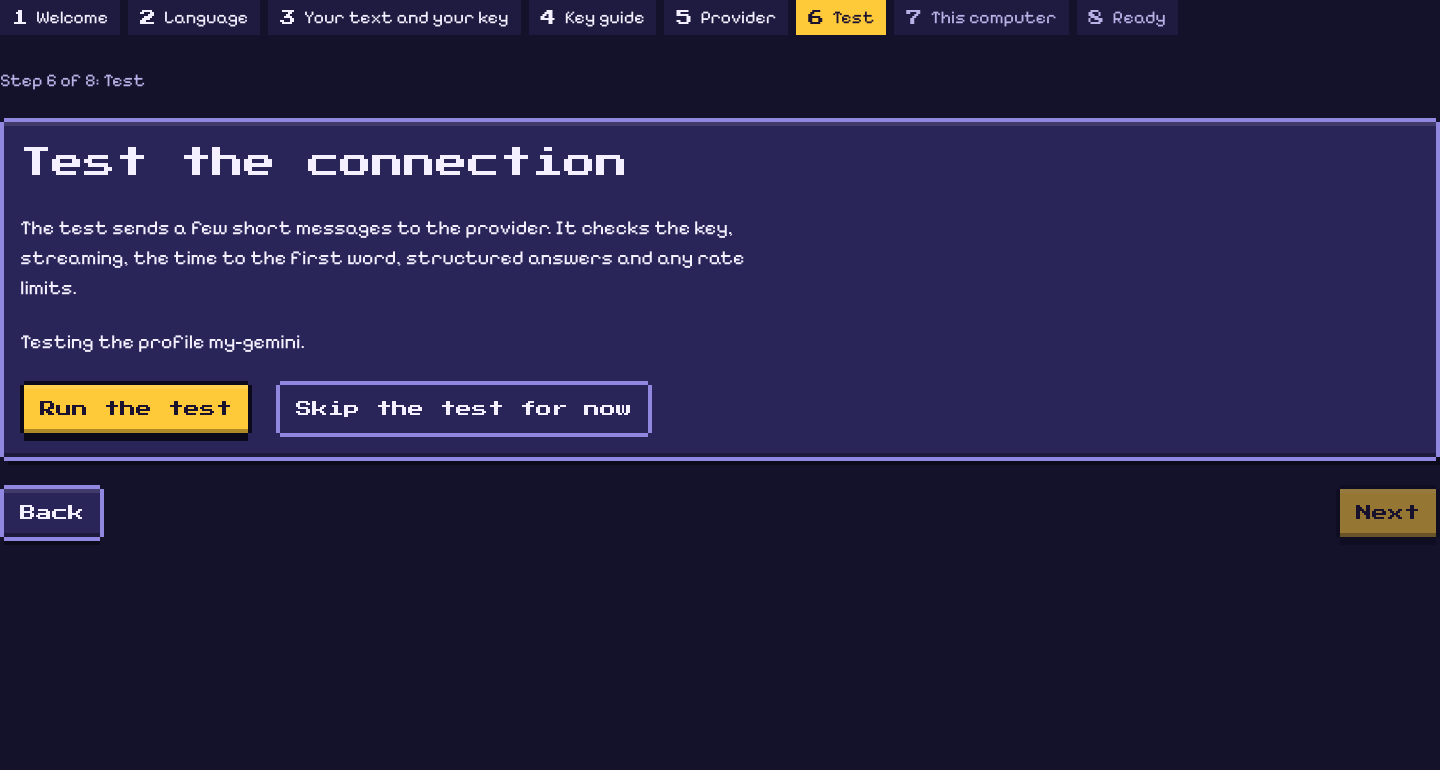
Test: OnboardingWizard › an unreachable provider can be tried again, and the test can be skipped
The image size is (1440, 770).
Click the button "Run the test": point(136, 409) [24,385,248,433]
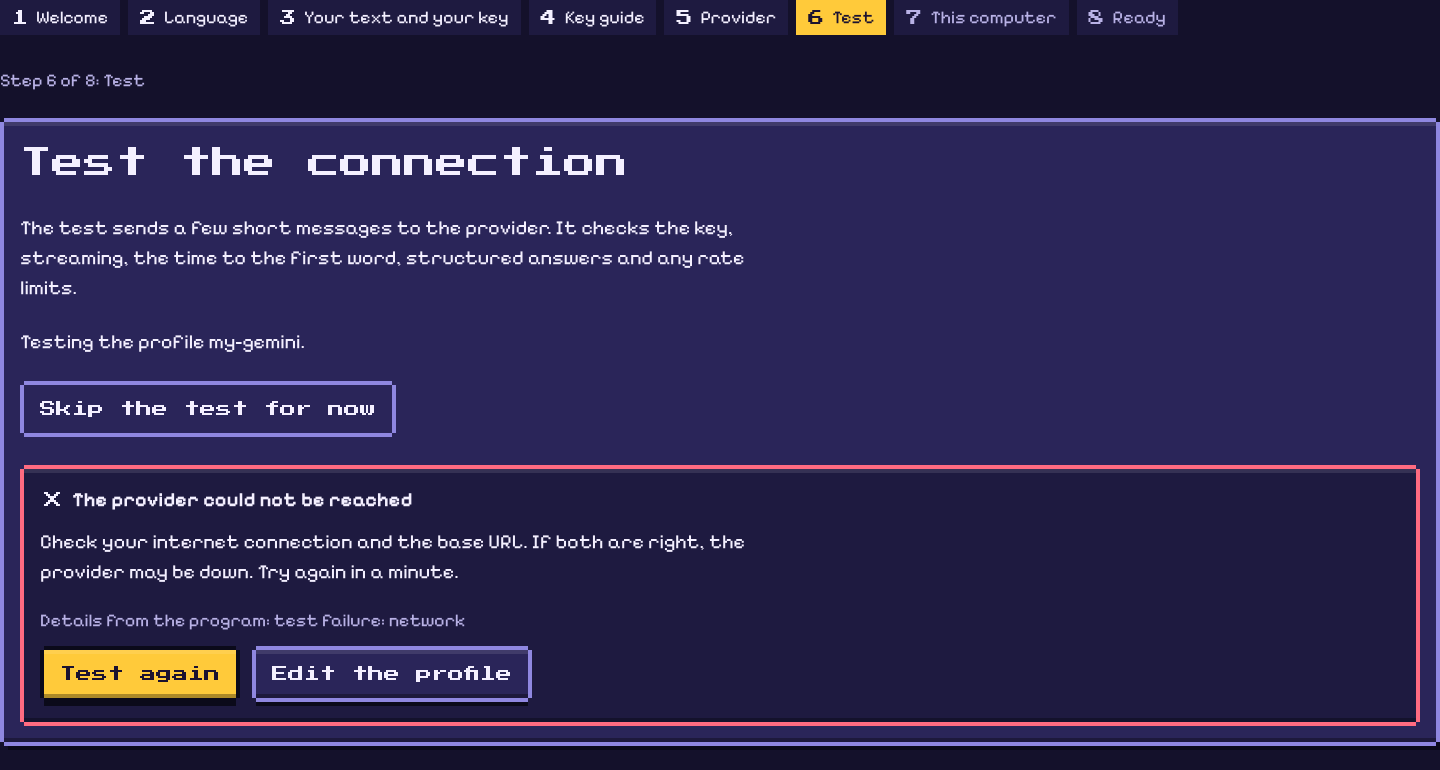
Expected: the text "The provider could not be reached" is shown, [72,485,412,515]
Expected: the button "Test again" is shown, [44,650,236,698]
Click the button "Skip the test for now": point(208, 409) [24,385,392,433]
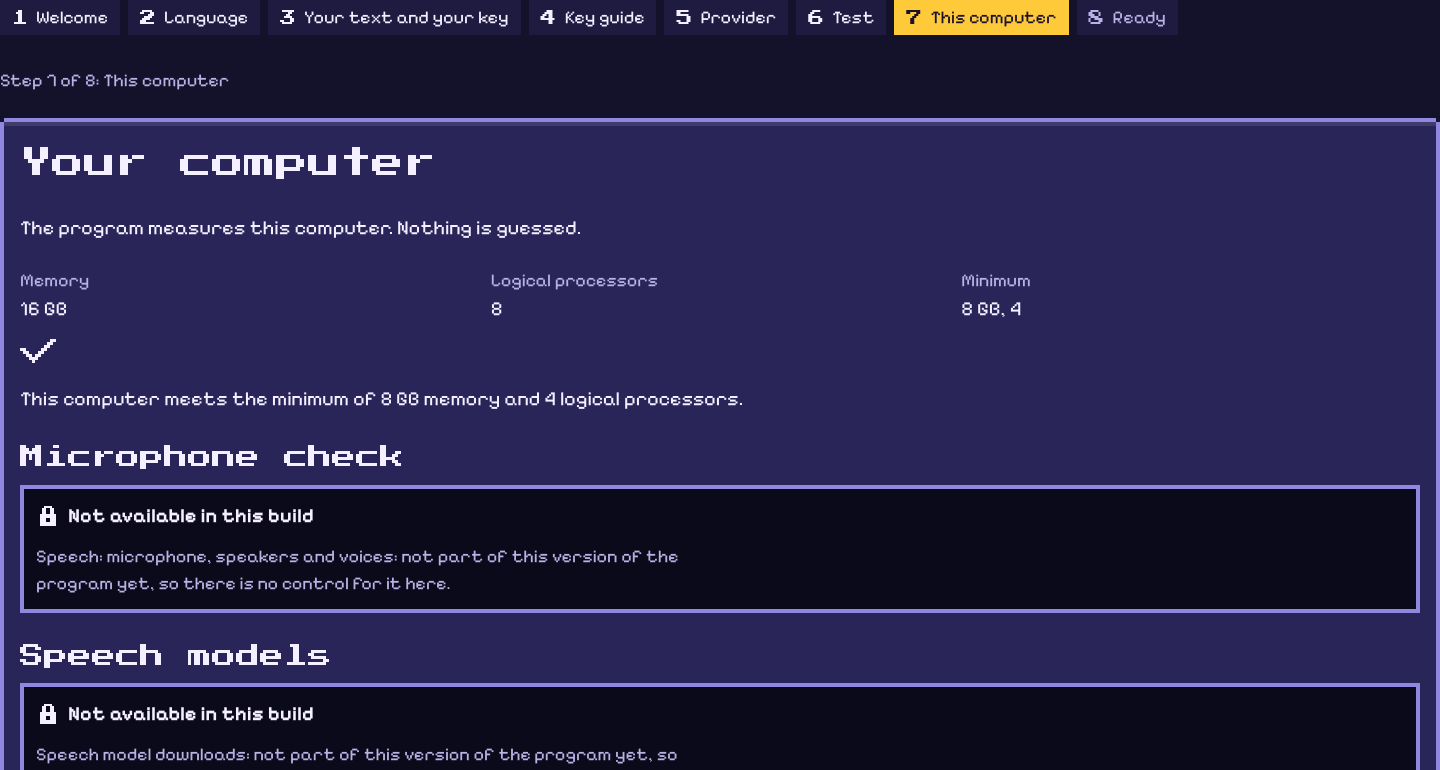
Expected: the heading "Your computer" is shown, [20,147,436,179]
